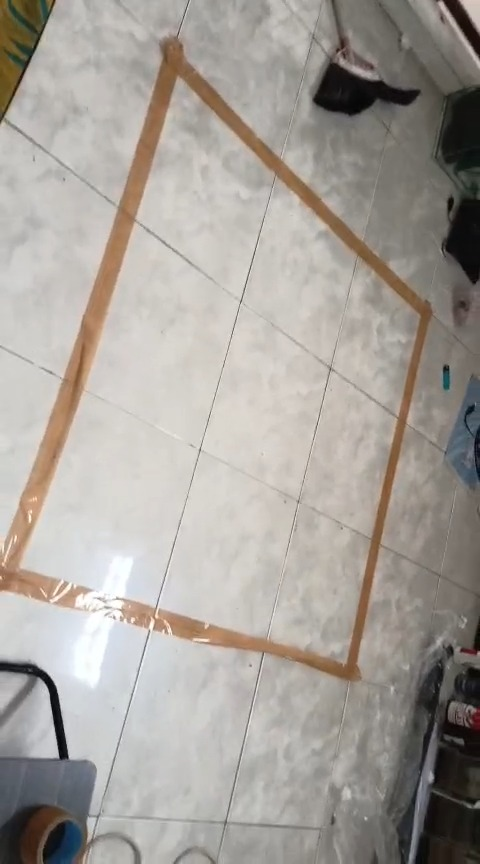floor marking: (1, 37, 431, 680)
